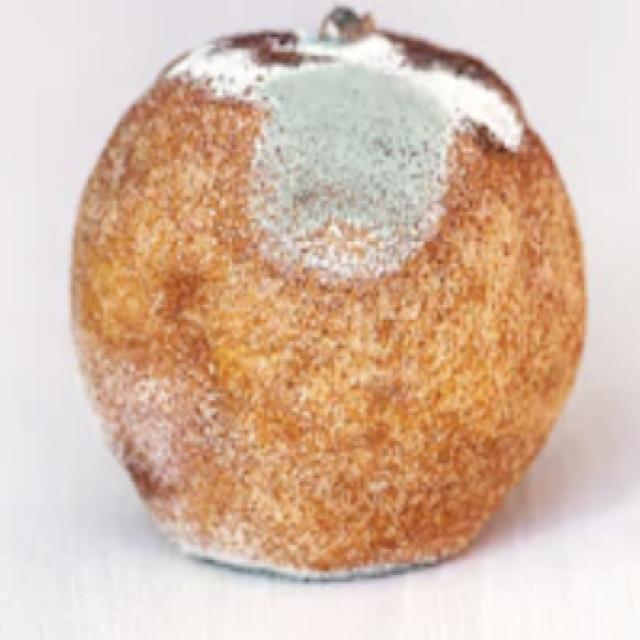sangat-busuk: (71, 8, 586, 575)
